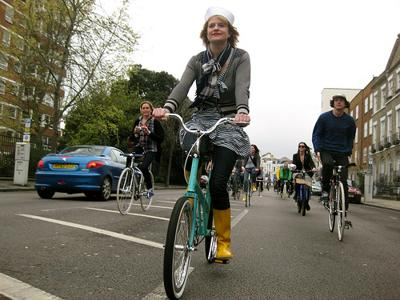person: (151, 4, 253, 266)
